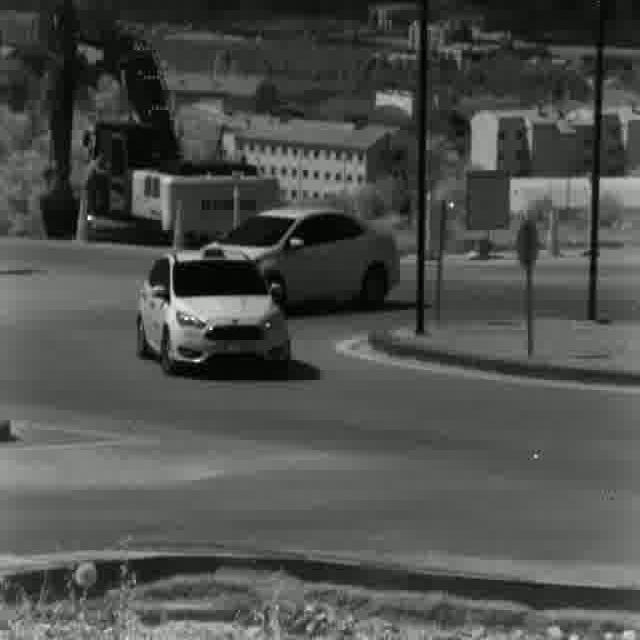Car: (195, 210, 398, 312), (136, 248, 290, 378)
